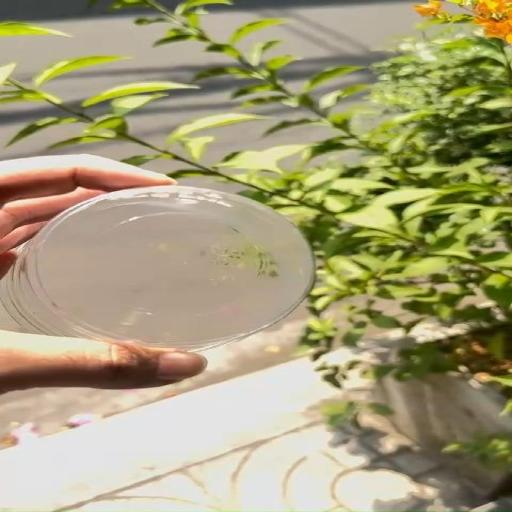ly_giay: (2, 186, 314, 351)
